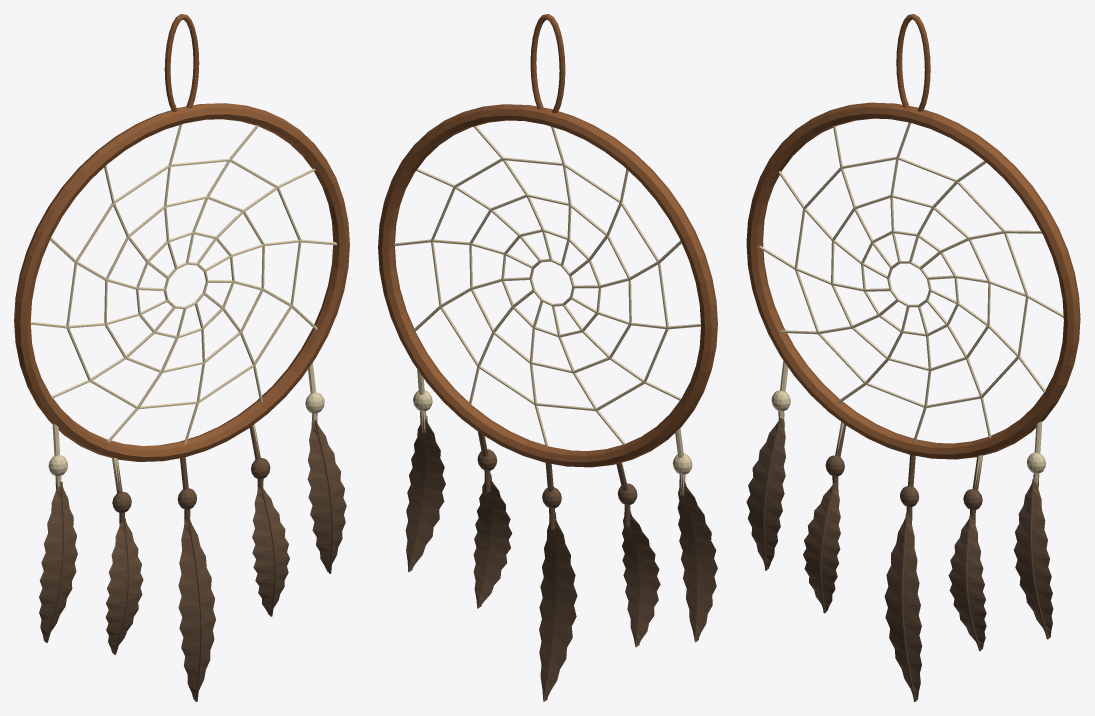
File: NEW_RECOVERY_097_LOD1.fbx
The picture shows the model from 3 angles, left to right: view 1: azimuth 30°, elevation 25°; view 2: azimuth 150°, elevation 25°; view 3: azimuth 330°, elevation 25°; orthographic projection.
Visible parts, largest first — view 1: Dreamcatcher; view 2: Dreamcatcher; view 3: Dreamcatcher.
Part boxes in pixels (left/top/right/bottom): Dreamcatcher: left=14, top=14, right=349, bottom=701; Dreamcatcher: left=378, top=14, right=717, bottom=701; Dreamcatcher: left=746, top=14, right=1080, bottom=701.
Bounding box in the file's own units: 103 × 13 × 201.
